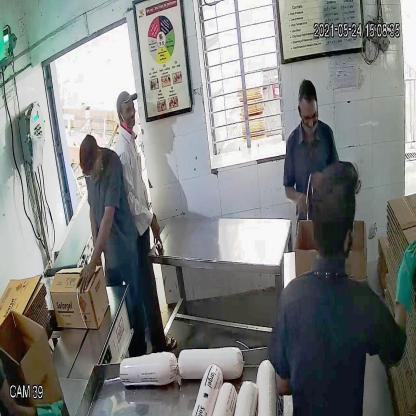no_goggles: (116, 102, 136, 120)
